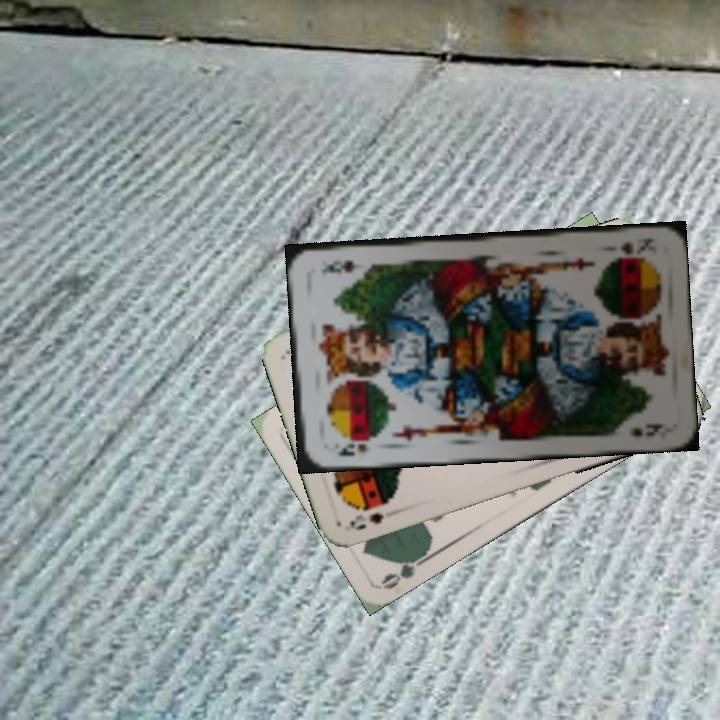GO: (378, 546, 433, 592)
SK: (617, 233, 659, 257), (335, 439, 370, 459)
SO: (345, 508, 386, 533)
